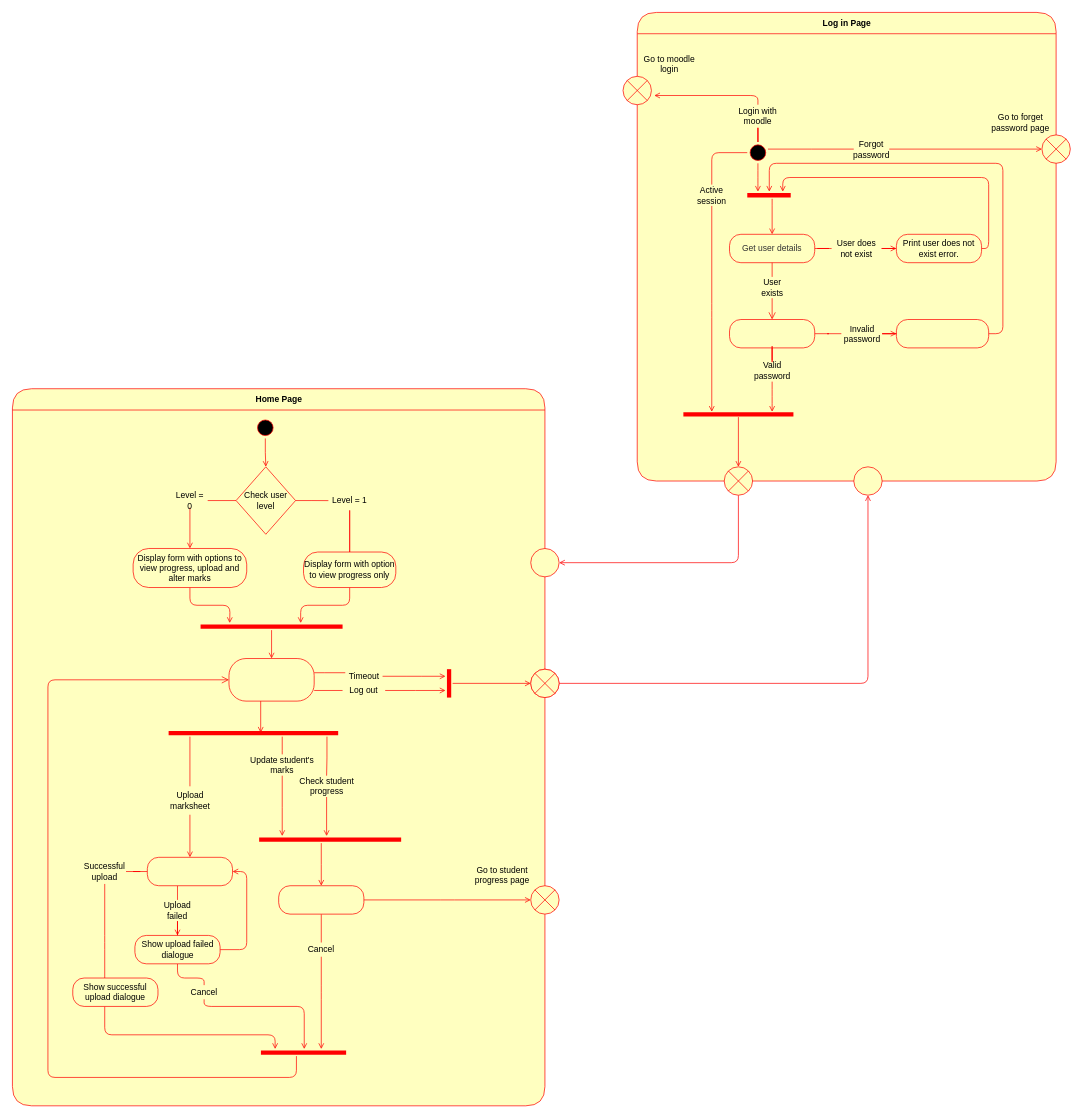
The diagram is 1083 pixels wide and 1118 high, and some of its shapes have lost their labels. The centre of each missing label's shape, as x and y in pixels:
Display marksheet uploader dialog box: [190,871]
Idle: [271,679]
Print invalid password error: [942,333]
Show student selection form: [321,899]
Validate login: [772,333]
